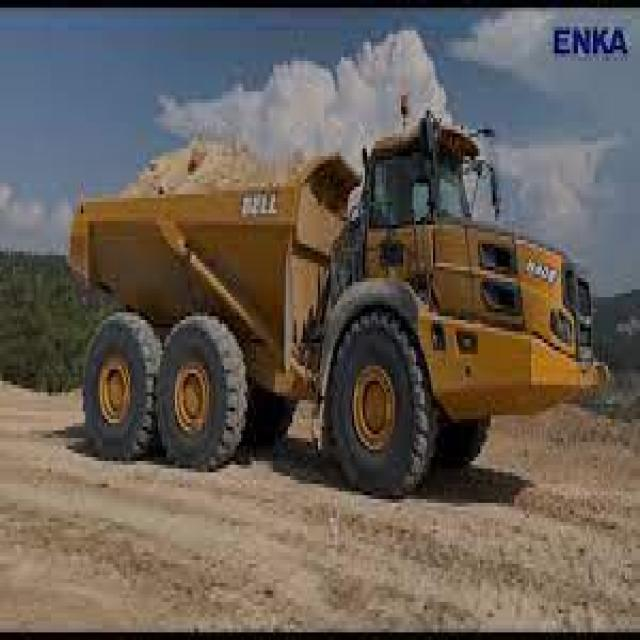dump_truck: (51, 61, 610, 526)
